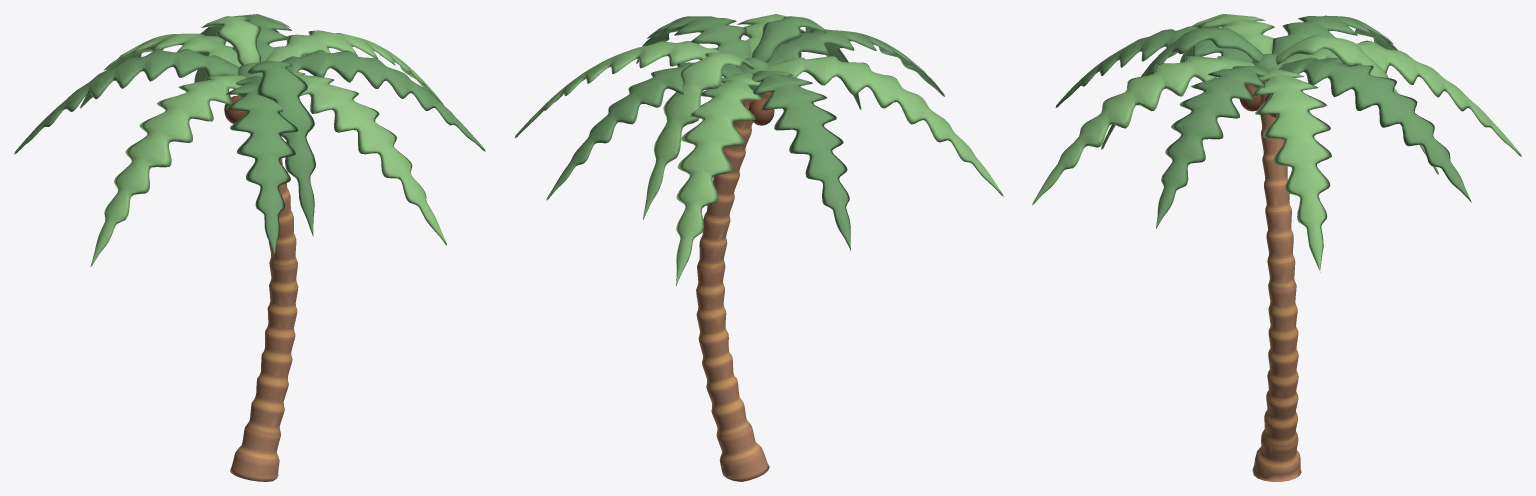
The model's file is prop_palm.glb.
The picture shows the model from 3 angles, left to right: view 1: azimuth 30°, elevation 25°; view 2: azimuth 150°, elevation 25°; view 3: azimuth 270°, elevation 25°; orthographic projection.
Visible parts, largest first — view 1: palm-tree_body; view 2: palm-tree_body; view 3: palm-tree_body.
Part boxes in pixels (bbox=[...]): palm-tree_body: bbox=[14, 14, 485, 481]; palm-tree_body: bbox=[514, 14, 1003, 481]; palm-tree_body: bbox=[1032, 14, 1521, 481].
Bounding box in the file's own units: 5.18 × 5.09 × 5.18.
Materials: 1 (1 with a texture image).
